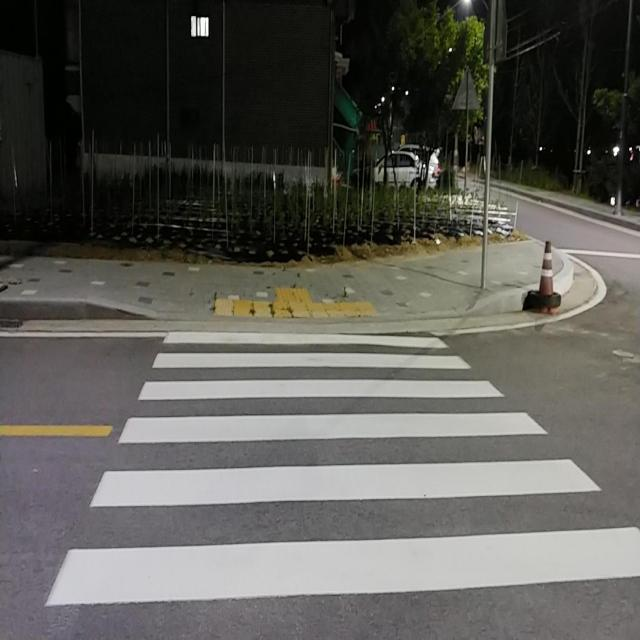횡단보도: (42, 328, 640, 610)
